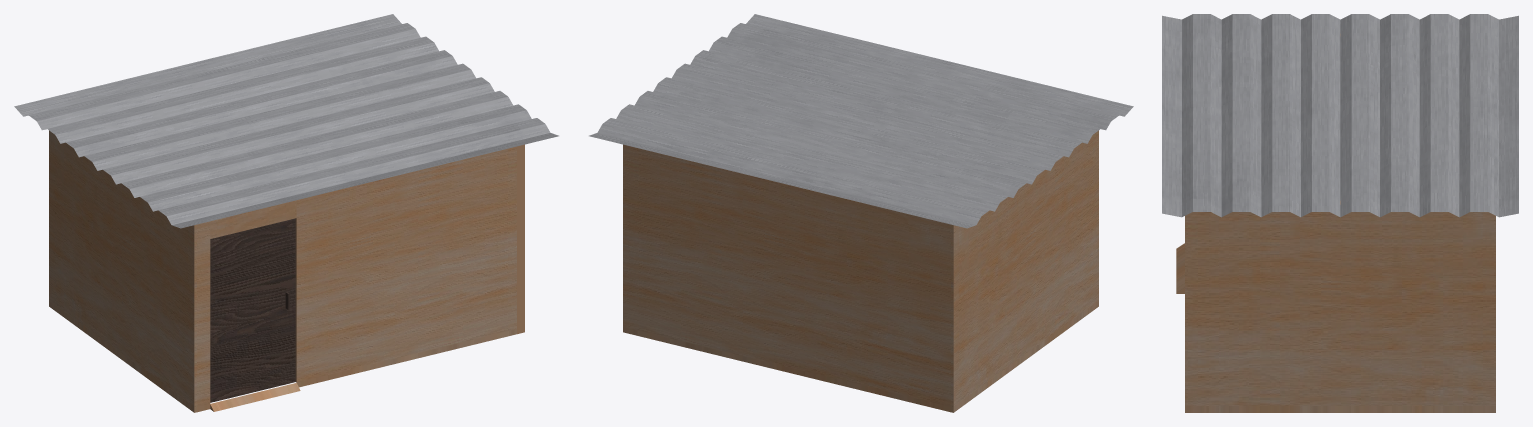
File: Shed.glb
3 views of the same model, side by side, from view 1: azimuth 30°, elevation 25°; view 2: azimuth 150°, elevation 25°; view 3: azimuth 270°, elevation 25° (orthographic). The views are drawn at different scales.
Parts seen in each view (by area): view 1: Plane.001, Roof, Cube.004; view 2: Plane.001, Roof; view 3: Roof, Plane.001.
Boxes of the visible parts, box(x1,y1,x2,y2) form: Plane.001: box(49, 130, 524, 412); Roof: box(14, 14, 558, 228); Cube.004: box(210, 218, 295, 402); Plane.001: box(623, 130, 1098, 412); Roof: box(589, 14, 1133, 228); Roof: box(1162, 14, 1518, 217); Plane.001: box(1176, 34, 1495, 412).
Size of the model in its own units: 4.82 by 2.43 by 3.67.
Materials: 24 (20 with a texture image).
